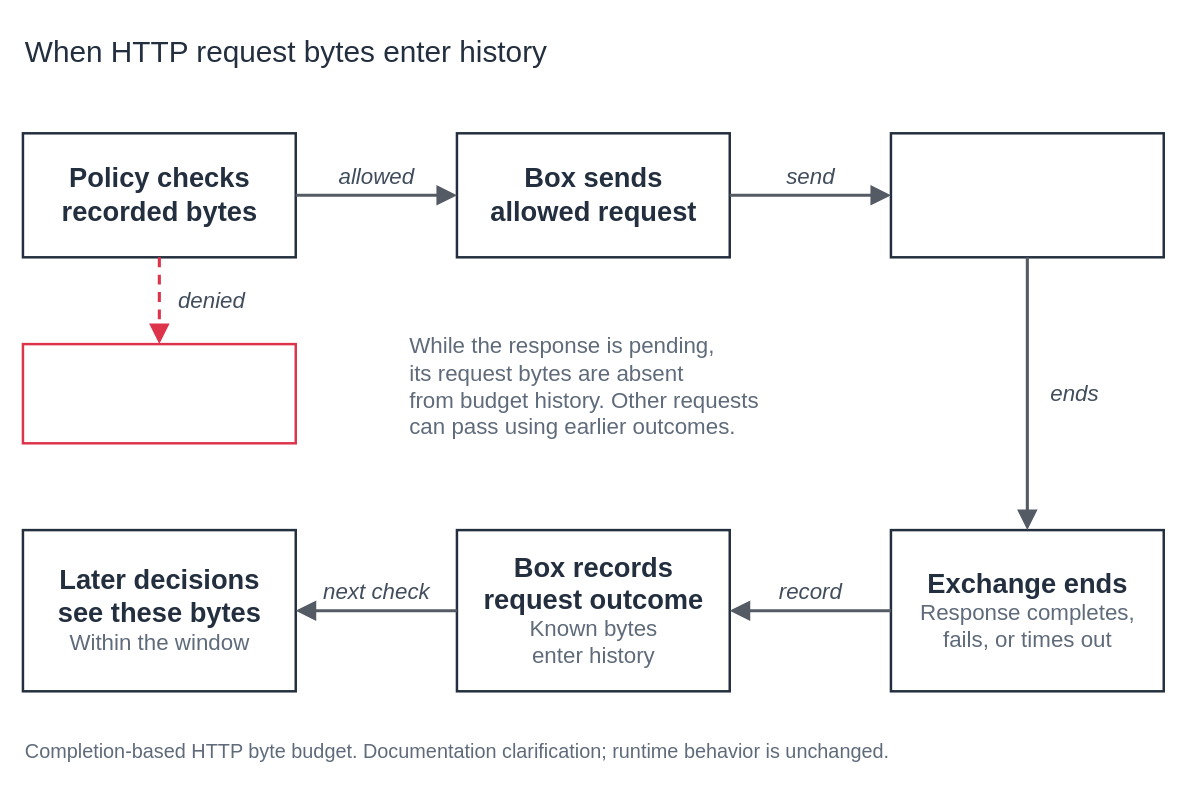
Some shapes in this 1185 by 792 pixel diagram are drawn without their labels. Each missing label, with the box of its shape:
If policy denies: request not sent: (21, 342, 296, 444)
Response stays pending: (889, 131, 1164, 258)
